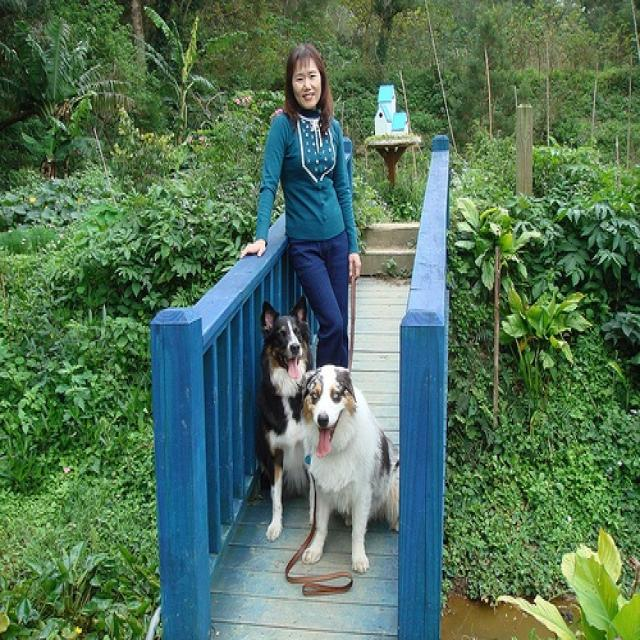dog: (304, 364, 399, 572), (258, 297, 312, 541)
